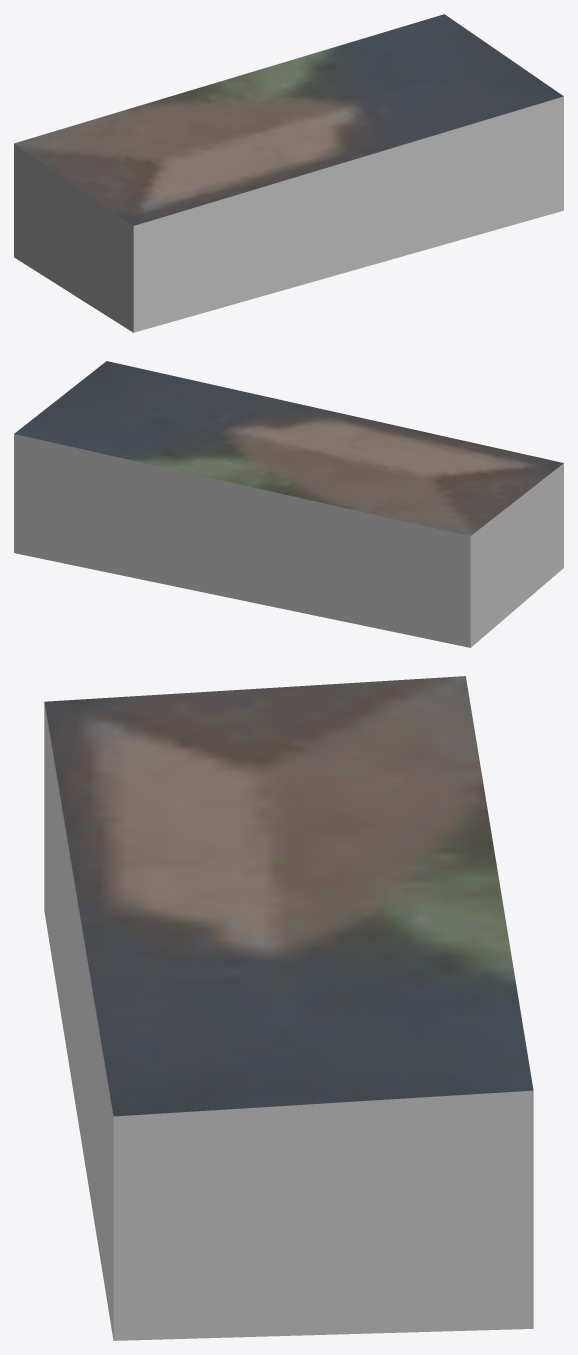
File: DEBW_0010007Tx71.gltf
3 views of the same model, one above another, from view 1: azimuth 30°, elevation 25°; view 2: azimuth 150°, elevation 25°; view 3: azimuth 270°, elevation 25° (orthographic). The views are drawn at different scales.
Parts seen in each view (by area): view 1: Z_UP; view 2: Z_UP; view 3: Z_UP.
Boxes of the visible parts, bbox=[...] form: Z_UP: bbox=[14, 14, 563, 332]; Z_UP: bbox=[14, 361, 563, 647]; Z_UP: bbox=[44, 676, 533, 1340].
Size of the model in its own units: 15.41 by 3.88 by 7.22.
Materials: 2 (1 with a texture image).
